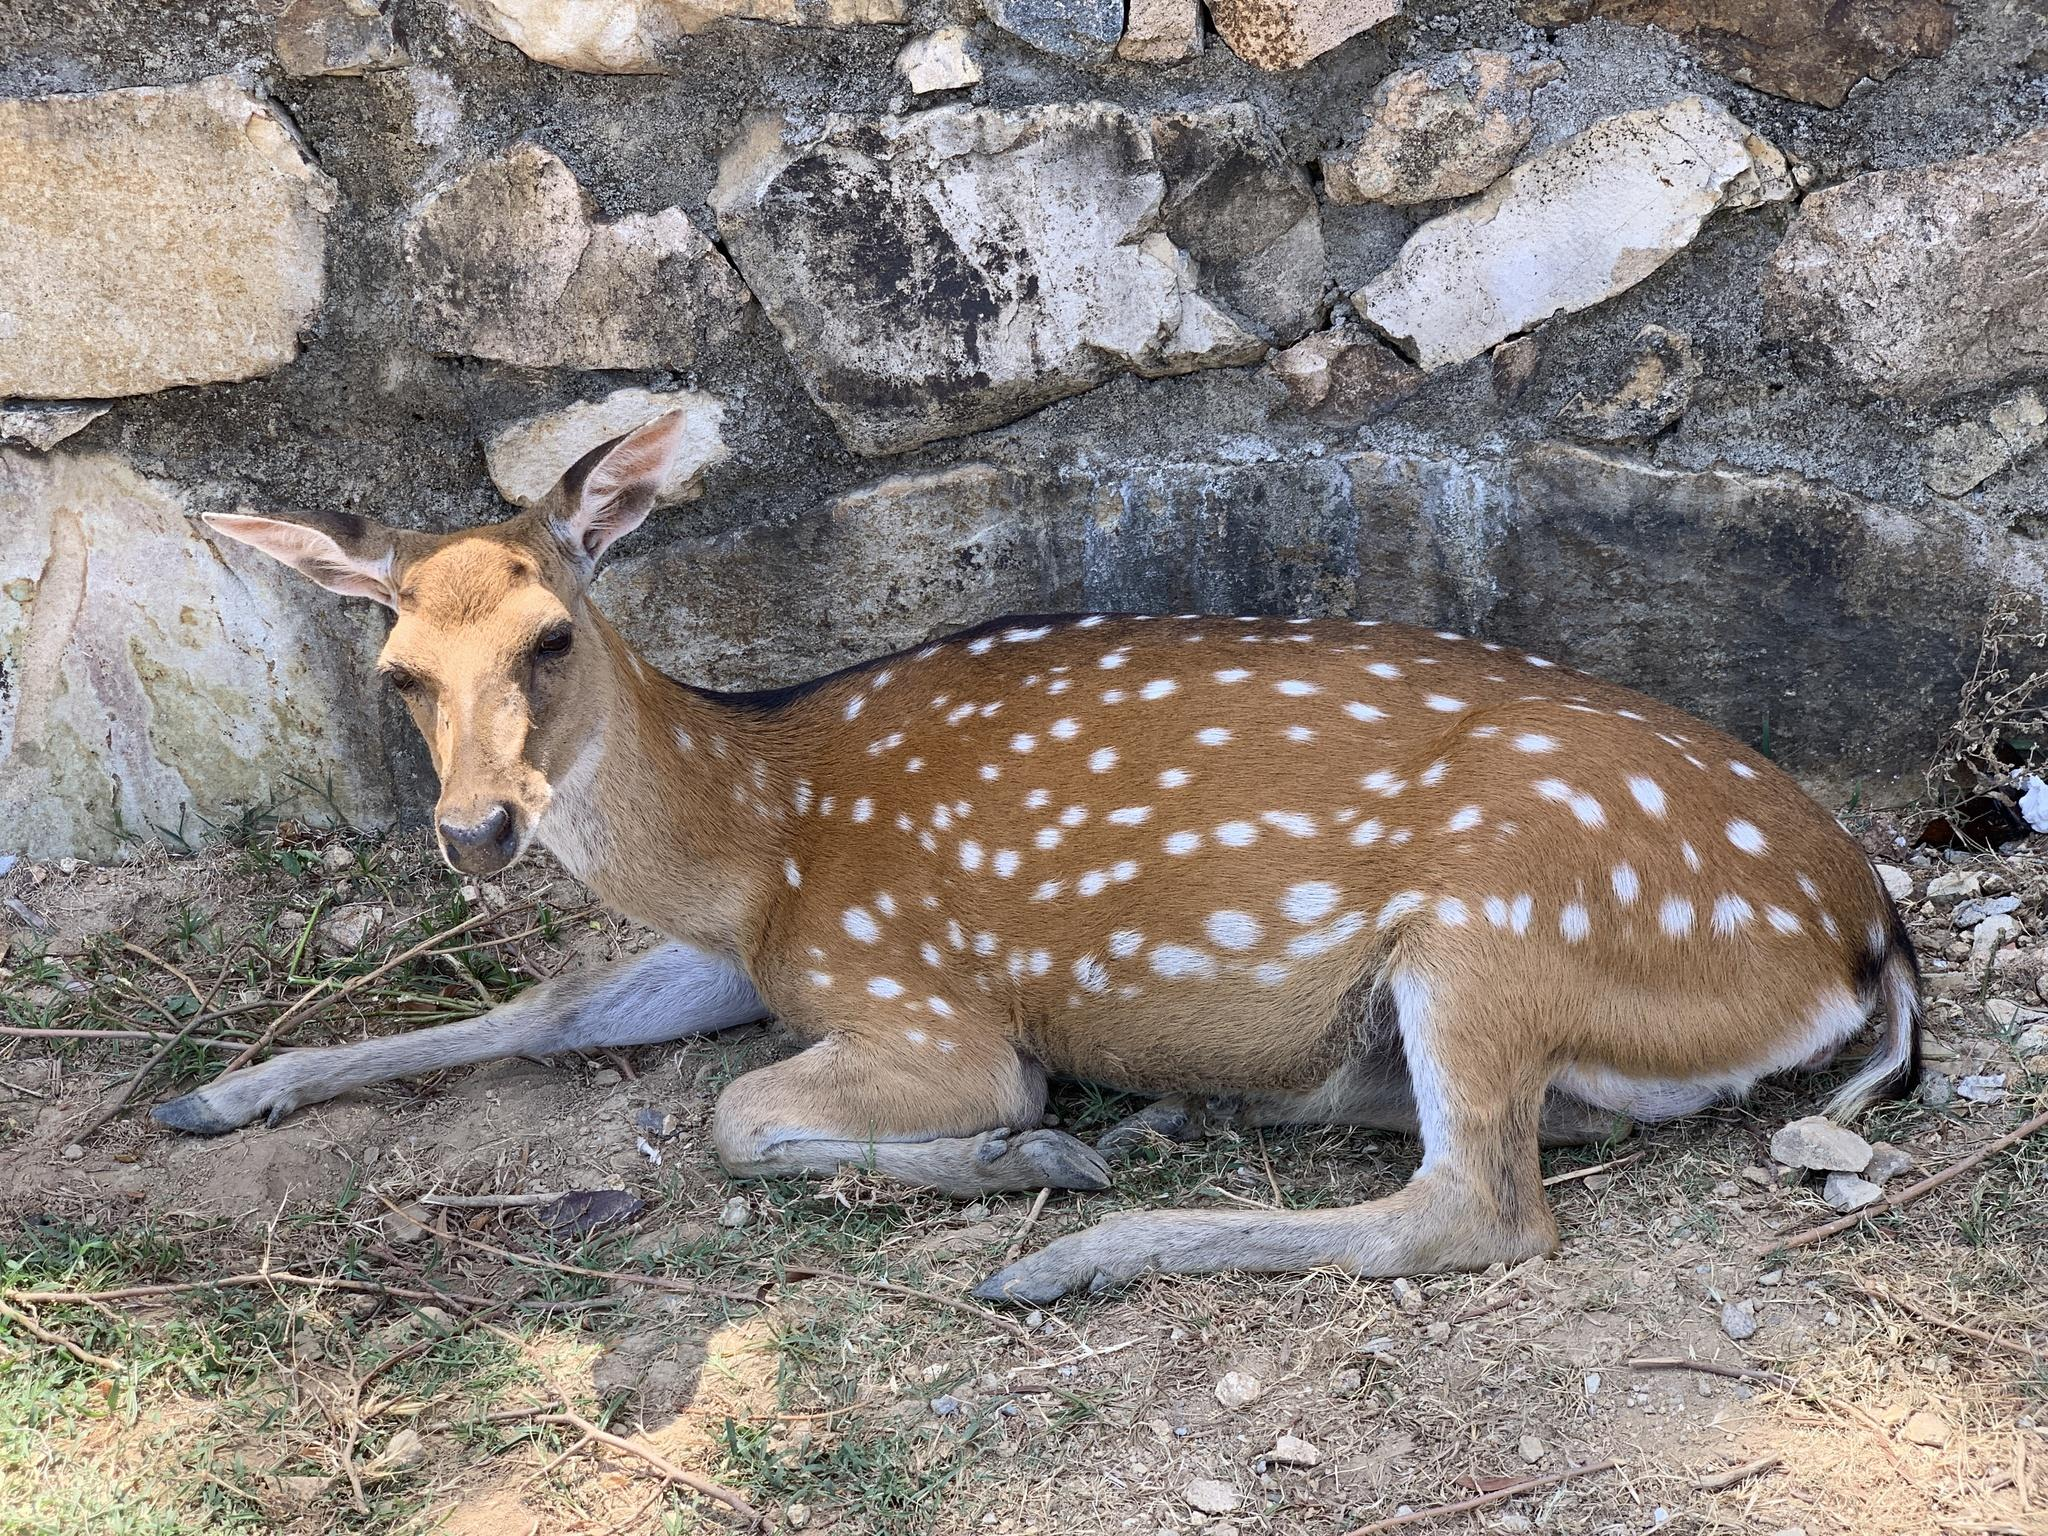Deer: (153, 411, 1919, 1300)
